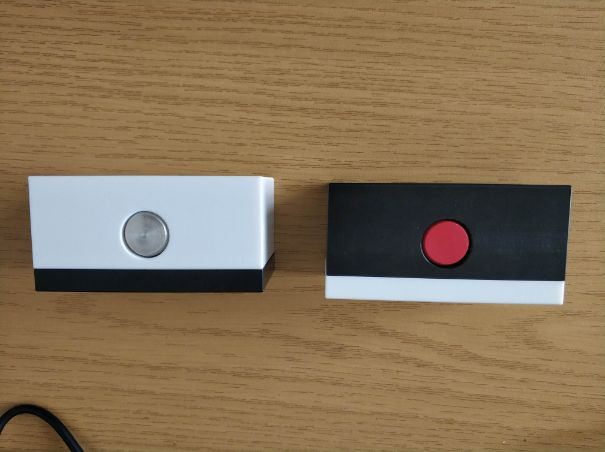black+white+silver: (26, 173, 279, 295)
white+black+red: (325, 181, 574, 305)
